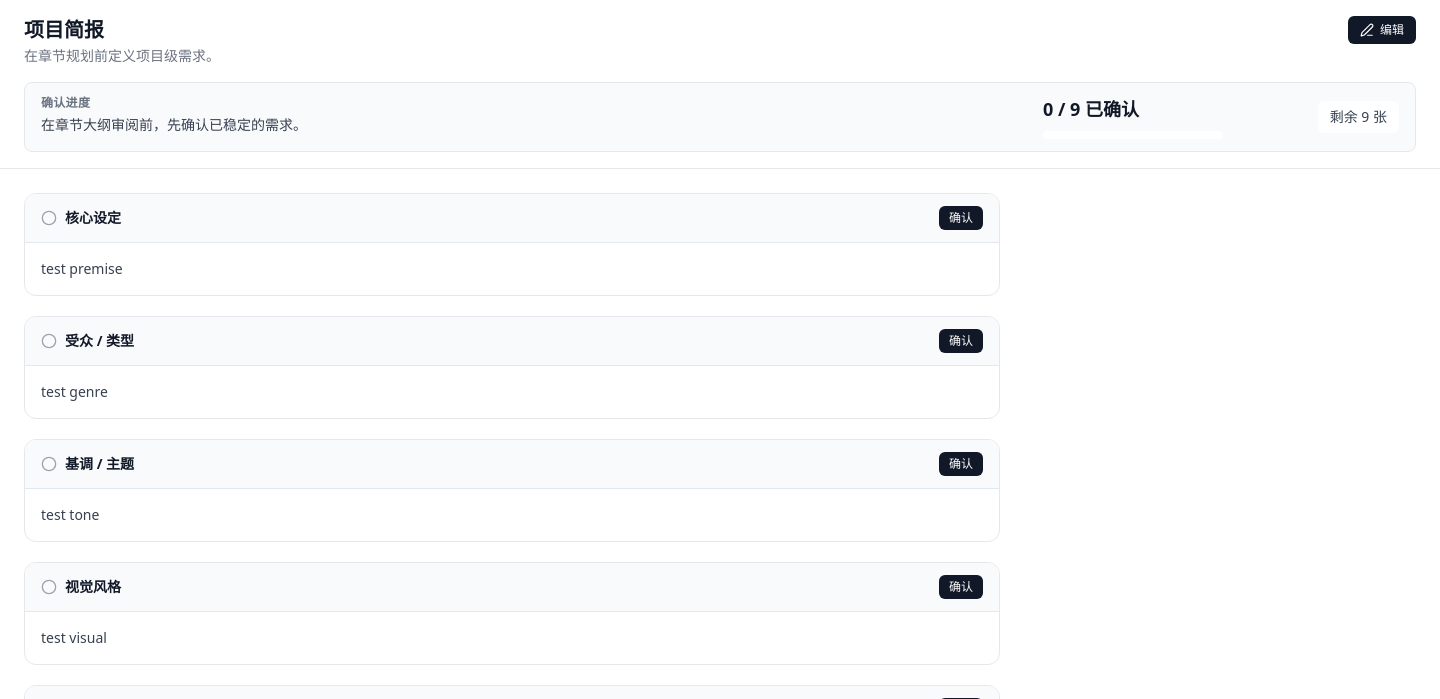
Test: BriefWorkspaceView action error handling › should keep the draft and show an inline error when saving fails
The image size is (1440, 699).
Click the button "编辑".
click(1382, 30)  # box [1348,16,1416,44]
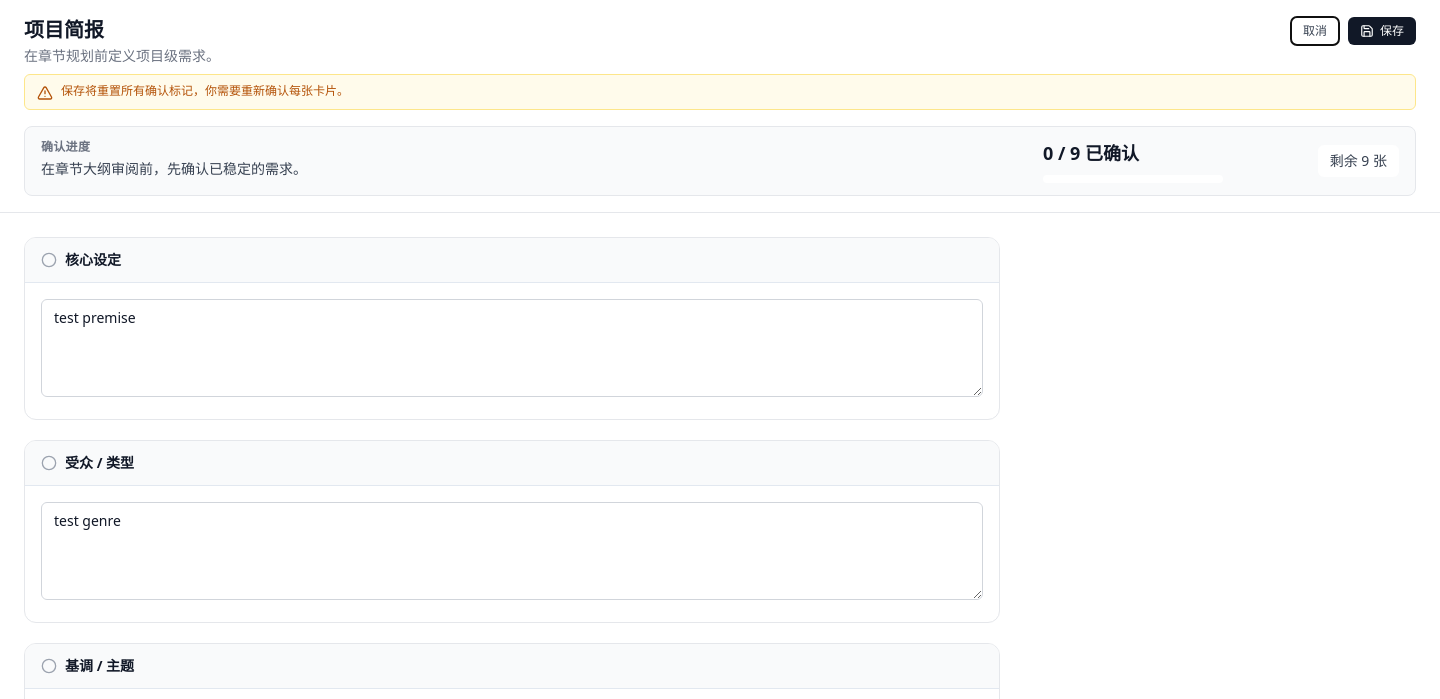
Replace the text in the text box with placeholder "填写核心设定..." below "核心设定" with "edited premise draft" at [512, 348], box [41,299,983,397]
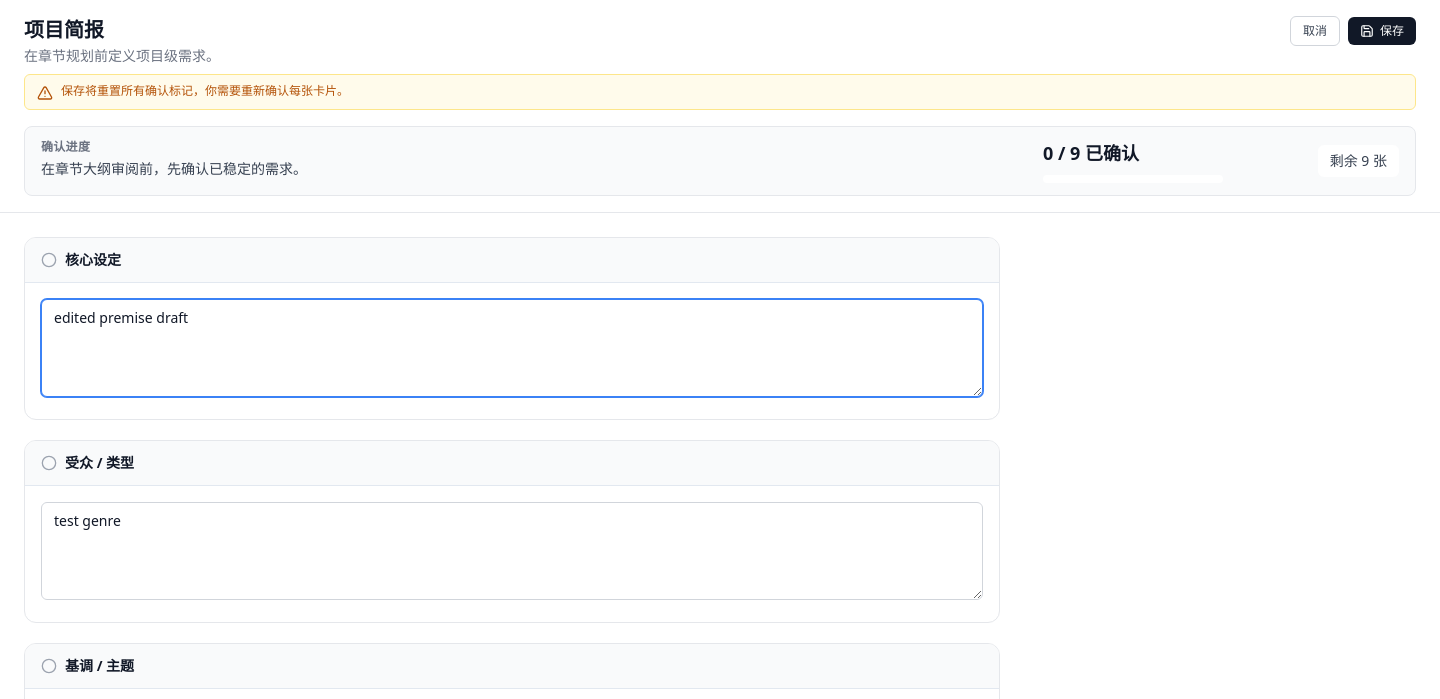
Click the button "保存".
click(1382, 31)  # box [1348,17,1416,45]
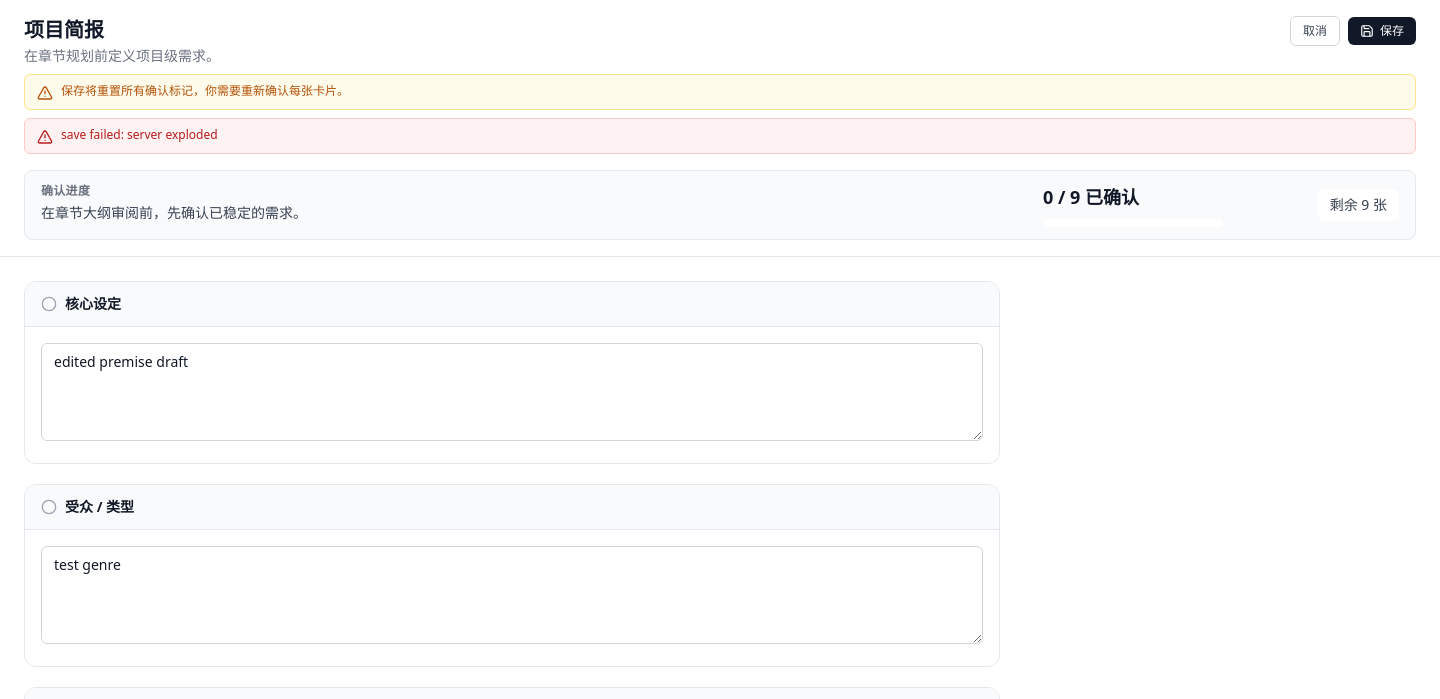
expect the button "保存" is shown: met, box [1348,17,1416,45]
expect the element with test id "brief-action-error" reads "save failed: server exploded": met, box [61,126,218,143]
